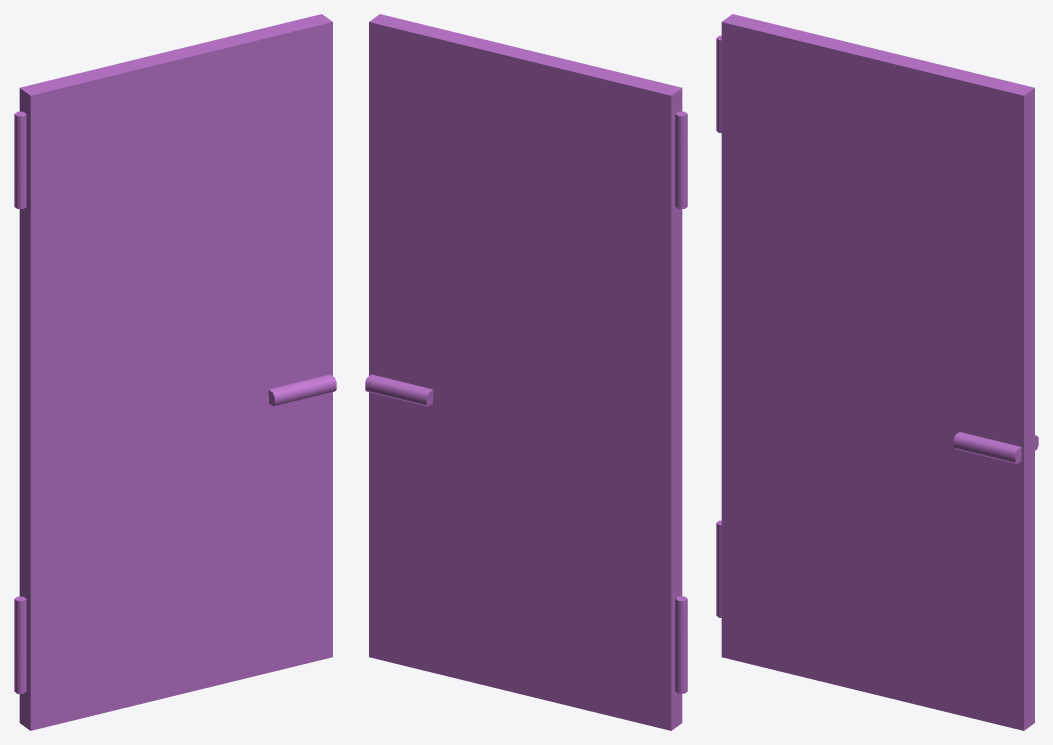
The model's file is Indbuilding1_Door_A.fbx.
3 views of the same model, side by side, from view 1: azimuth 30°, elevation 25°; view 2: azimuth 150°, elevation 25°; view 3: azimuth 330°, elevation 25° (orthographic).
Parts seen in each view (by area): view 1: Indbuilding1_Door_A; view 2: Indbuilding1_Door_A; view 3: Indbuilding1_Door_A.
Part boxes in pixels (x1,y1,x2,y2): Indbuilding1_Door_A: (14, 14, 336, 730); Indbuilding1_Door_A: (365, 14, 687, 730); Indbuilding1_Door_A: (716, 14, 1038, 730).
Size of the model in its own units: 1.64 by 3.2 by 0.2135.
